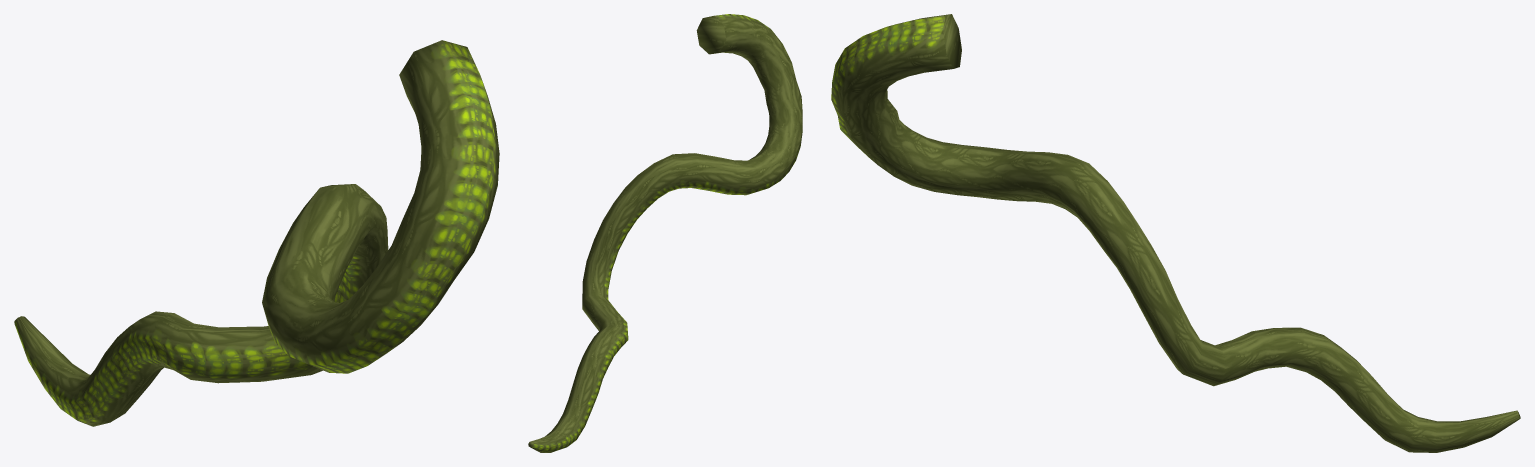
Rendered from tt_forest_root18.FBX.
3 views of the same model, side by side, from view 1: azimuth 30°, elevation 25°; view 2: azimuth 150°, elevation 25°; view 3: azimuth 270°, elevation 25° (orthographic). The views are drawn at different scales.
Parts seen in each view (by area): view 1: tt_forest_root18; view 2: tt_forest_root18; view 3: tt_forest_root18.
Part boxes in pixels (<box>): tt_forest_root18: <box>14,40,499,426</box>; tt_forest_root18: <box>528,14,802,452</box>; tt_forest_root18: <box>831,14,1520,452</box>.
Bounding box in the file's own units: 316 × 758 × 1063.
